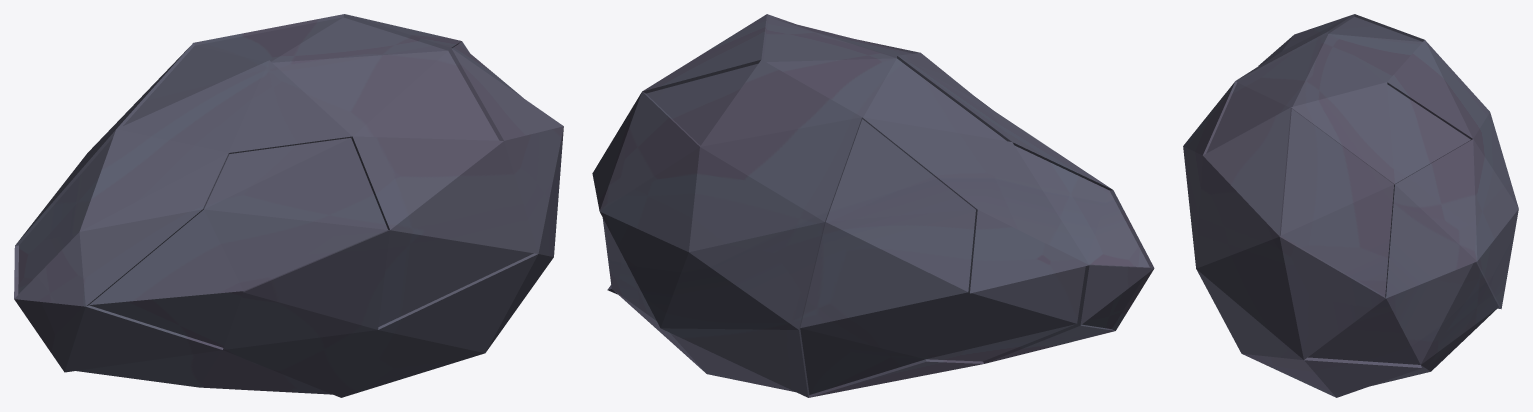
3 views of the same model, side by side, from view 1: azimuth 30°, elevation 25°; view 2: azimuth 150°, elevation 25°; view 3: azimuth 270°, elevation 25° (orthographic). The views are drawn at different scales.
Parts seen in each view (by area): view 1: метиорит; view 2: метиорит; view 3: метиорит.
Part boxes in pixels (left/top/right/bottom): метиорит: left=14, top=14, right=563, bottom=397; метиорит: left=592, top=14, right=1154, bottom=397; метиорит: left=1183, top=14, right=1518, bottom=397.
Size of the model in its own units: 358 by 212 by 220.
1 material, 1 textured.
